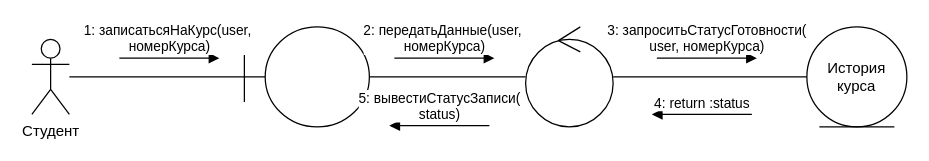
The diagram is 929 pixels wide and 161 high, and some of its shapes have lost their labels. The shapes that lost their labels are listed below. From the top down, each one's box as (x1, y1, x2, y2) in pixels, then its label:
(243, 26, 369, 127): Форма записи на курс
(524, 26, 613, 127): Слушатель
